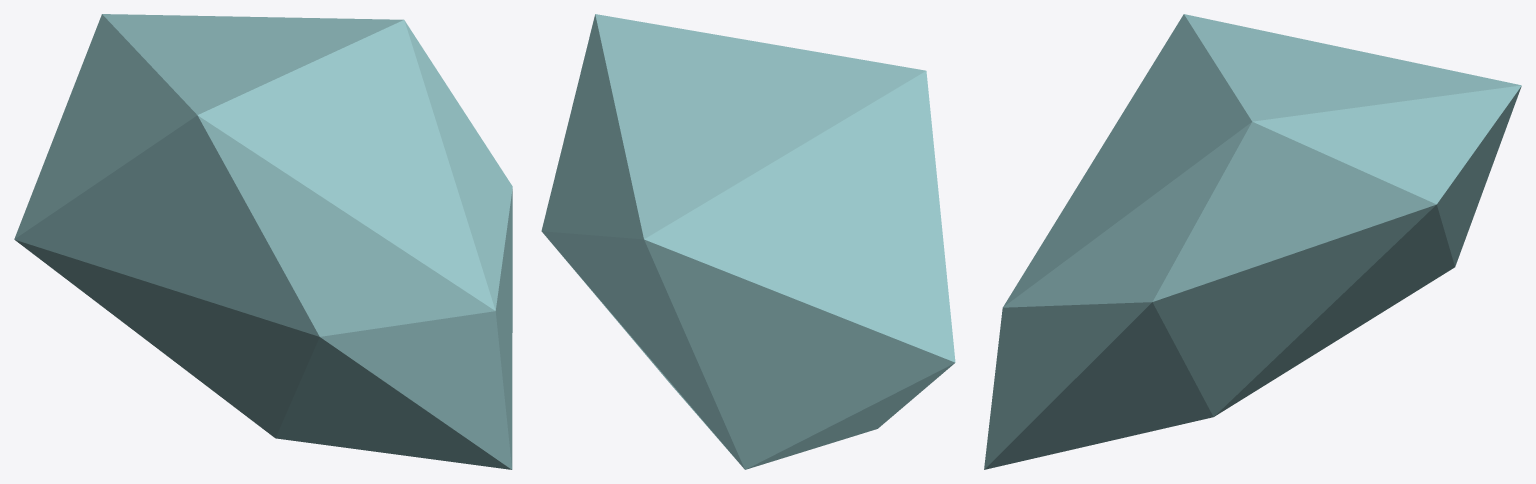
Rendered from kamen 3.fbx.
3 views of the same model, side by side, from view 1: azimuth 30°, elevation 25°; view 2: azimuth 150°, elevation 25°; view 3: azimuth 270°, elevation 25° (orthographic). The views are drawn at different scales.
Visible parts, largest first — view 1: Icosphere.011; view 2: Icosphere.011; view 3: Icosphere.011.
Part boxes in pixels (bbox=[...]): Icosphere.011: bbox=[14, 14, 512, 469]; Icosphere.011: bbox=[541, 14, 955, 469]; Icosphere.011: bbox=[984, 14, 1521, 469].
Size of the model in its own units: 308 by 255 by 345.
